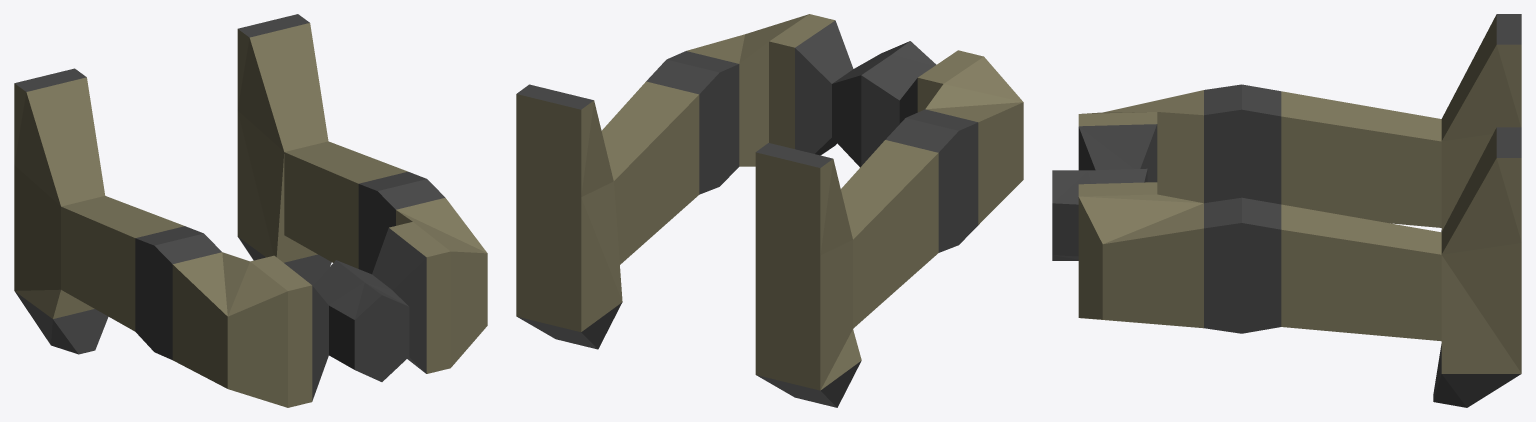
Rendered from legs2.obj.
3 views of the same model, side by side, from view 1: azimuth 30°, elevation 25°; view 2: azimuth 150°, elevation 25°; view 3: azimuth 270°, elevation 25° (orthographic). The views are drawn at different scales.
Visible parts, largest first — view 1: MechLegs2; view 2: MechLegs2; view 3: MechLegs2.
Boxes of the visible parts, <box> form: MechLegs2: <box>14,14,487,407</box>; MechLegs2: <box>516,14,1023,407</box>; MechLegs2: <box>1052,14,1521,407</box>.
Bounding box in the file's own units: 4.2 × 3.47 × 5.79.
1 material, 1 textured.
